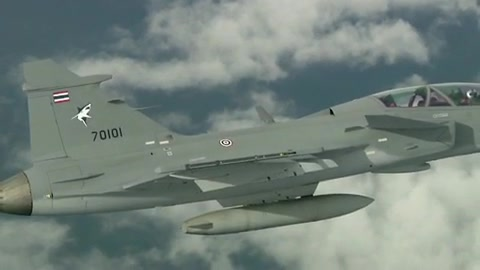aeroplane: (1, 59, 480, 236)
